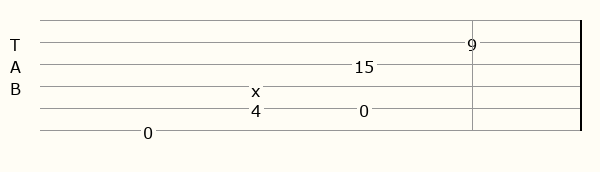0: (143, 122, 157, 138), (359, 100, 373, 116)
15: (354, 56, 378, 72)
4: (251, 100, 265, 116)
9: (467, 34, 481, 50)
x: (251, 80, 264, 93)
